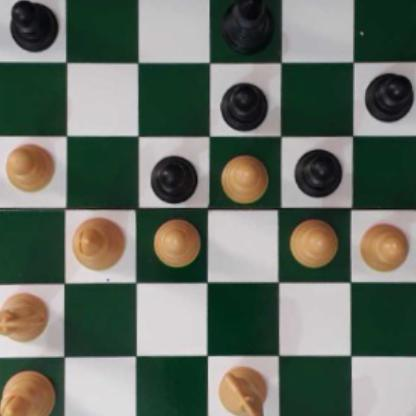black-bishop: (223, 0, 273, 54)
black-pawn: (364, 67, 414, 120), (217, 78, 268, 129), (294, 145, 343, 197), (8, 0, 57, 51), (148, 151, 197, 200)
white-bishop: (70, 214, 122, 270), (0, 365, 54, 416)
white-knight: (216, 362, 270, 416), (0, 293, 51, 344)
white-pawn: (356, 219, 408, 271), (2, 140, 54, 191), (214, 152, 268, 200), (287, 216, 337, 267), (151, 214, 199, 265)
